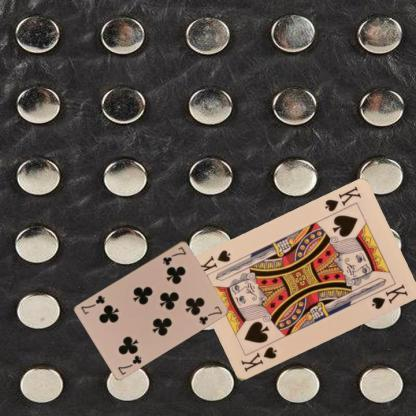7c: (116, 352, 142, 376), (160, 244, 187, 266)
Ks: (238, 344, 278, 374), (322, 184, 362, 213)
